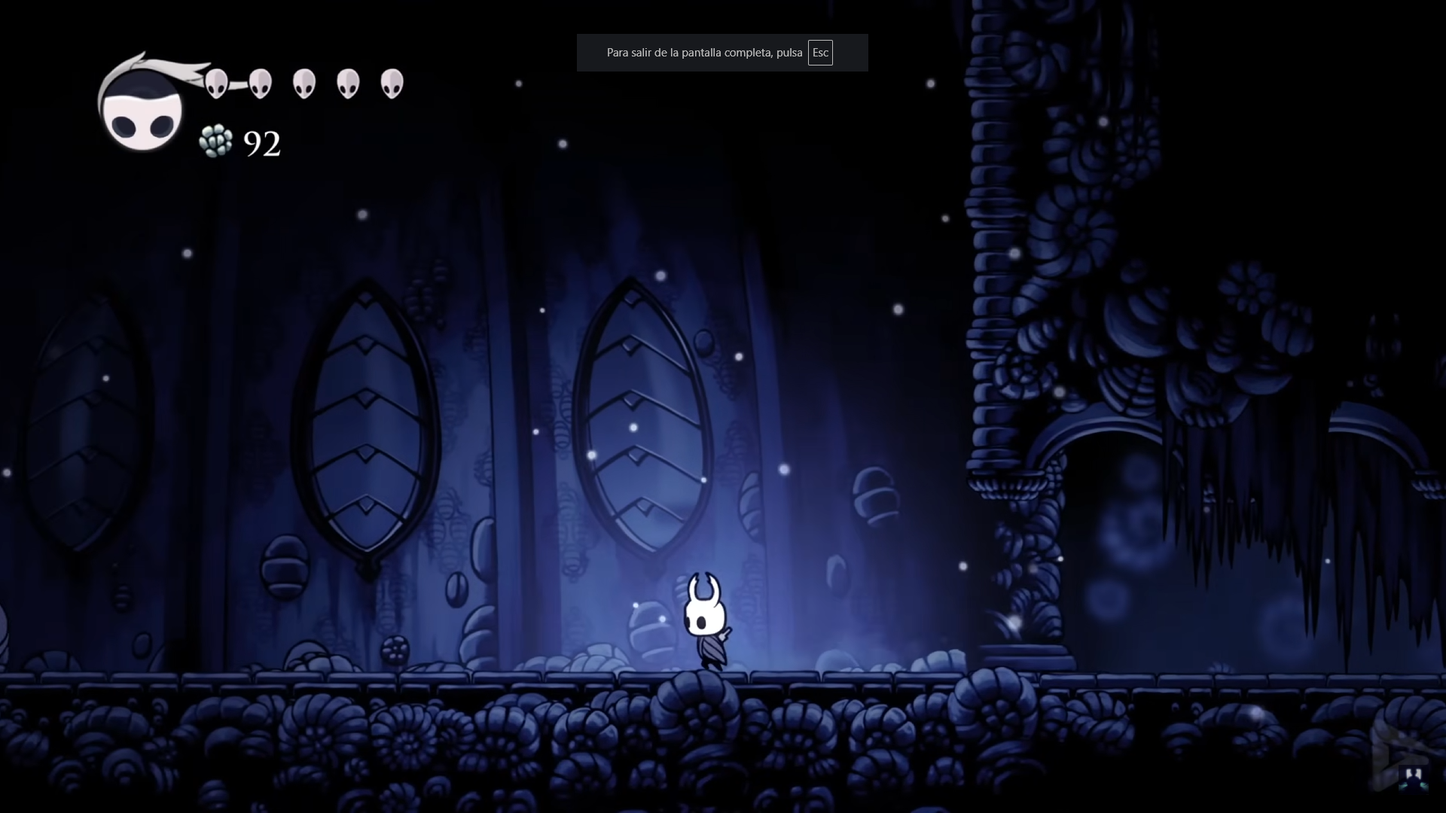HK: (679, 568, 739, 674)
